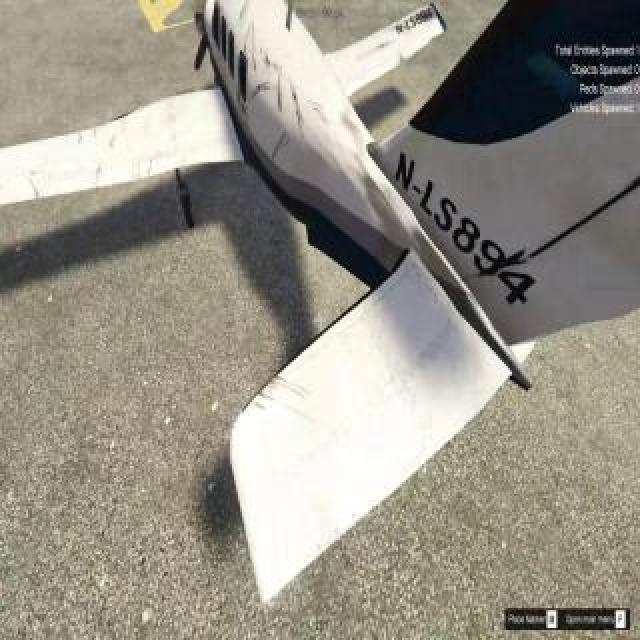dent: (291, 85, 304, 137), (274, 134, 286, 157), (252, 24, 256, 70), (245, 27, 251, 53), (254, 84, 263, 96), (242, 103, 248, 118), (266, 54, 271, 68)
